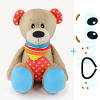teddy: (6, 7, 73, 96)
